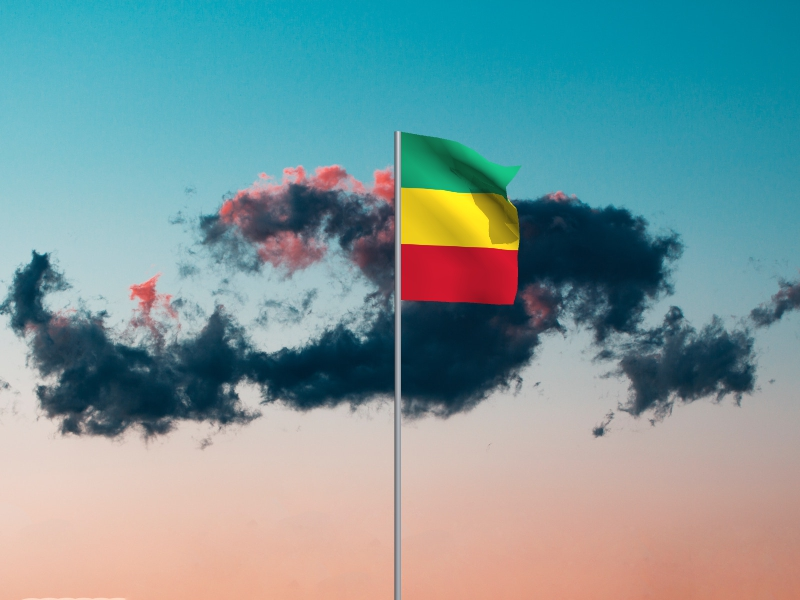gn: (401, 133, 523, 307)
